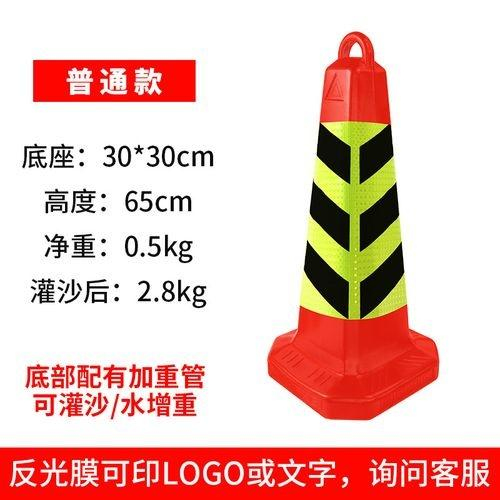cone_barrel: (266, 40, 441, 421)
